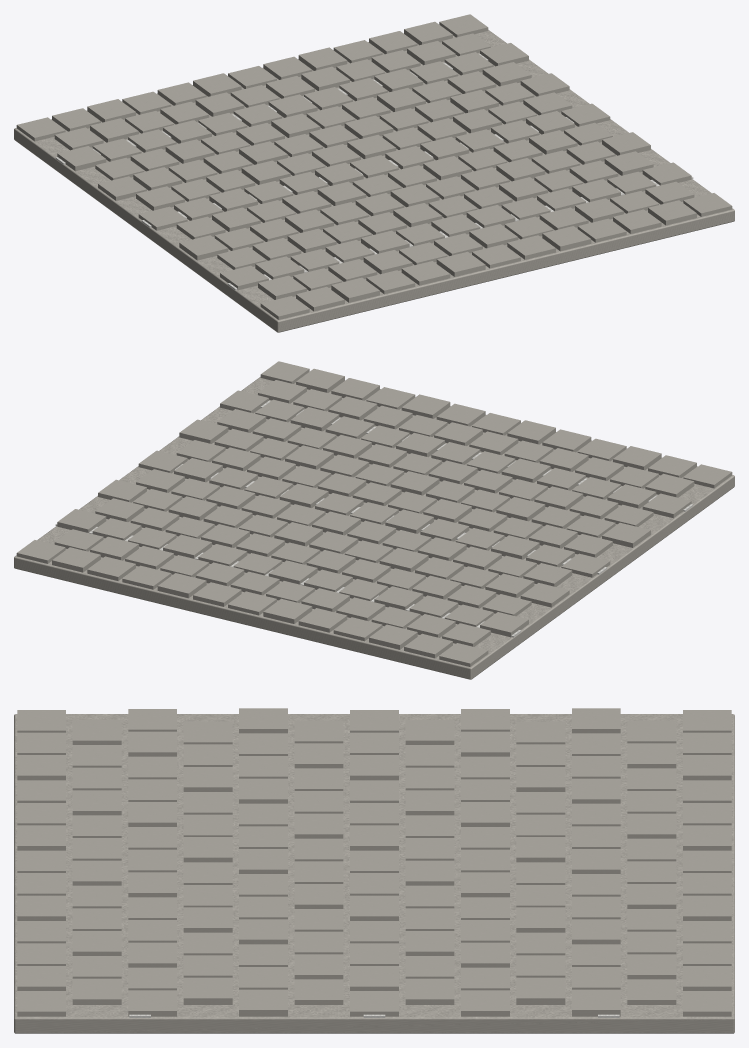
The model's file is greek-island-village-and-harbour-cobbled-square-module-87585847__37079.glb.
3 renders of one model, top to bottom at view 1: azimuth 30°, elevation 25°; view 2: azimuth 150°, elevation 25°; view 3: azimuth 270°, elevation 25°, orthographic. The views are drawn at different scales.
Visible parts, largest first — view 1: cobbled-square-module; view 2: cobbled-square-module; view 3: cobbled-square-module.
Part boxes in pixels (x1,y1,x2,y2): cobbled-square-module: (14, 14, 734, 332); cobbled-square-module: (14, 361, 734, 679); cobbled-square-module: (14, 708, 734, 1033).
Bounding box in the file's own units: 4 × 0.1401 × 4.
Materials: 2 (2 with a texture image).
